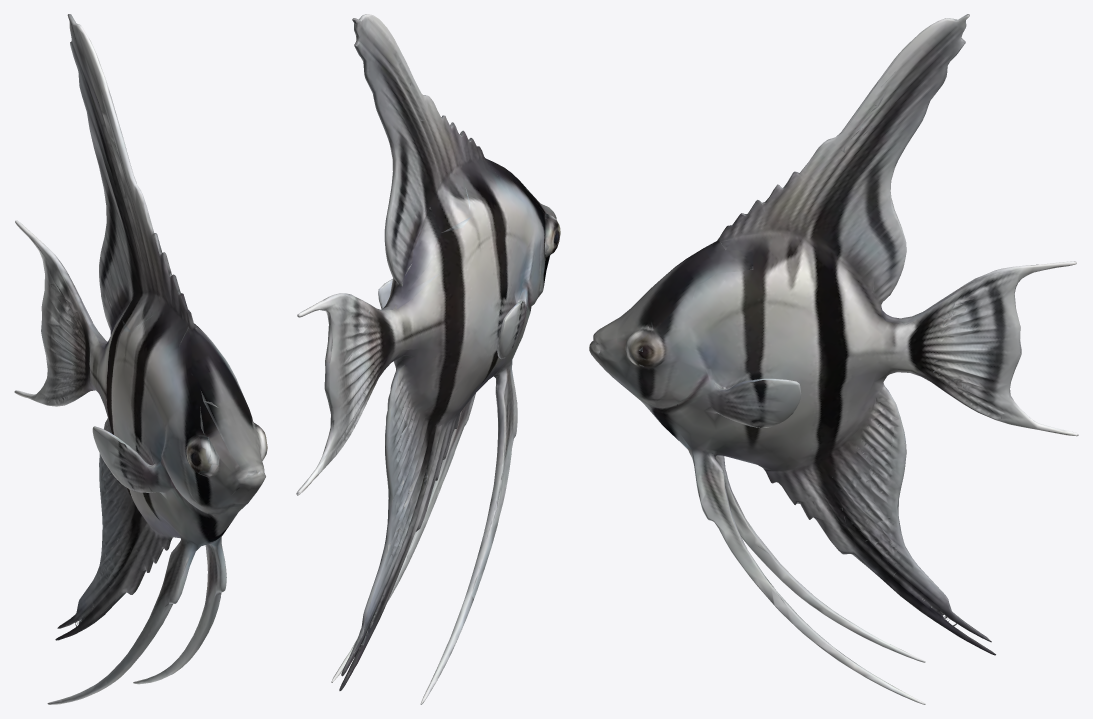
The model's file is fish_angelfish.glb.
The picture shows the model from 3 angles, left to right: view 1: azimuth 30°, elevation 25°; view 2: azimuth 150°, elevation 25°; view 3: azimuth 270°, elevation 25°; orthographic projection. The views are drawn at different scales.
Visible parts, largest first — view 1: Mesh_0; view 2: Mesh_0; view 3: Mesh_0.
Boxes of the visible parts, x1,y1,x2,y2 form: Mesh_0: (14,14,267,704); Mesh_0: (296,14,560,704); Mesh_0: (589,14,1078,704).
Bounding box in the file's own units: 0.369 × 1.91 × 1.27.
Materials: 1 (1 with a texture image).
